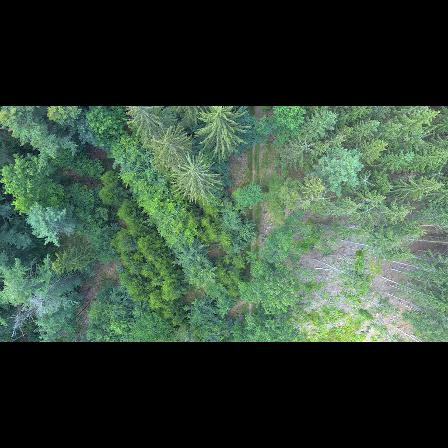Dead: (5, 287, 77, 333)
Sick: (290, 135, 318, 157), (356, 171, 377, 191)
